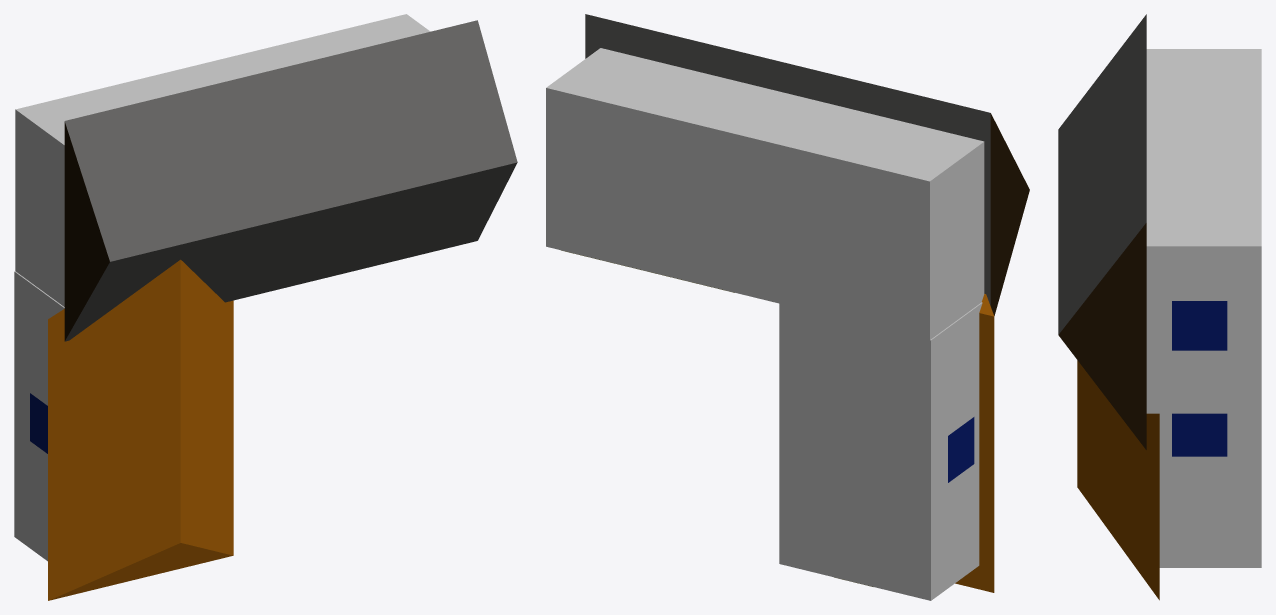
The model's file is house.obj.
3 views of the same model, side by side, from view 1: azimuth 30°, elevation 25°; view 2: azimuth 150°, elevation 25°; view 3: azimuth 270°, elevation 25° (orthographic). The views are drawn at different scales.
Visible parts, largest first — view 1: Cube.003_Cube.005, Cube.001_Cube.002, Cube.002_Cube.004, Cube, Plane.003; view 2: Cube.002_Cube.004, Cube, Cube.003_Cube.005, Cube.001_Cube.002, Plane.003; view 3: Cube.002_Cube.004, Cube.003_Cube.005, Cube, Cube.001_Cube.002, Plane.001, Plane.002.
Part boxes in pixels (bbox=[...]): Cube.003_Cube.005: bbox=[64, 20, 517, 341]; Cube.001_Cube.002: bbox=[48, 259, 233, 600]; Cube.002_Cube.004: bbox=[15, 14, 430, 306]; Cube: bbox=[14, 271, 64, 561]; Plane.003: bbox=[30, 393, 47, 453]; Cube.002_Cube.004: bbox=[546, 48, 984, 339]; Cube: bbox=[779, 302, 982, 600]; Cube.003_Cube.005: bbox=[585, 14, 1029, 315]; Cube.001_Cube.002: bbox=[955, 294, 994, 592]; Plane.003: bbox=[948, 417, 974, 482]; Cube.002_Cube.004: bbox=[1146, 49, 1261, 413]; Cube.003_Cube.005: bbox=[1058, 14, 1146, 449]; Cube: bbox=[1159, 413, 1261, 567]; Cube.001_Cube.002: bbox=[1077, 360, 1159, 600]; Plane.001: bbox=[1172, 301, 1227, 350]; Plane.002: bbox=[1172, 413, 1227, 456].
Bounding box in the file's own units: 1.78 × 1.94 × 0.7167.
